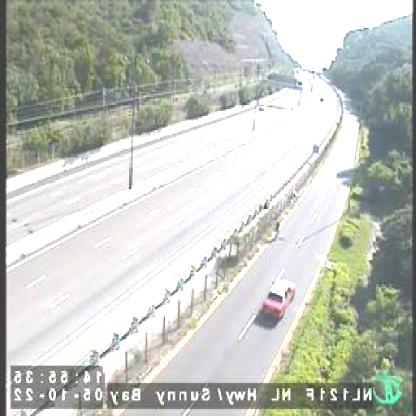Car: (262, 277, 296, 314)
